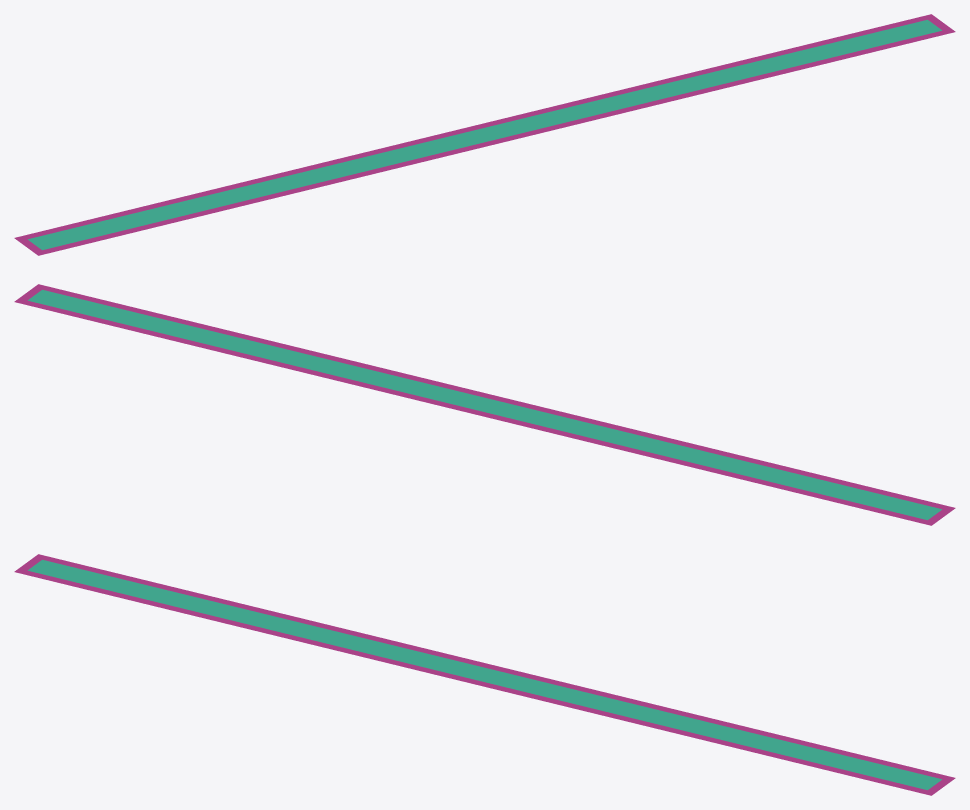
Rendered from DownLight_01_Mesh.fbx.
The picture shows the model from 3 angles, top to bottom: view 1: azimuth 30°, elevation 25°; view 2: azimuth 150°, elevation 25°; view 3: azimuth 330°, elevation 25°; orthographic projection.
Visible parts, largest first — view 1: down_light_01; view 2: down_light_01; view 3: down_light_01.
Boxes of the visible parts, left/top/right/bottom form: down_light_01: left=14, top=14, right=955, bottom=255; down_light_01: left=14, top=284, right=955, bottom=525; down_light_01: left=14, top=554, right=955, bottom=795.
Bounding box in the file's own units: 310 × 6.25e-07 × 14.29.
